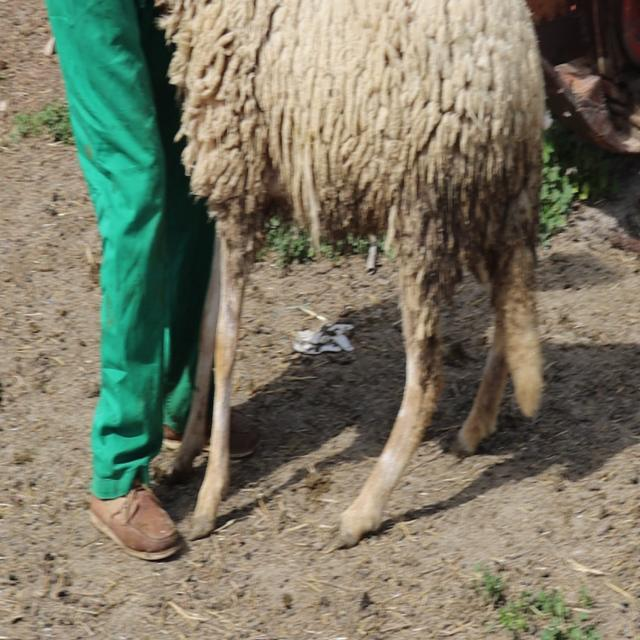Score_3: (155, 0, 545, 546)
